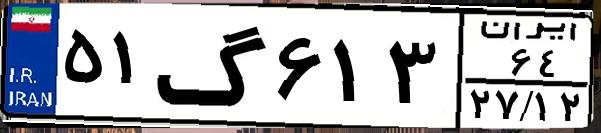1: (330, 28, 385, 110), (110, 28, 156, 98), (535, 70, 560, 125)
2: (560, 70, 590, 125), (470, 70, 495, 125)
3: (385, 28, 445, 110)
4: (537, 27, 568, 80)
5: (57, 26, 110, 100)
6: (270, 28, 330, 110), (508, 27, 537, 80)
7: (495, 70, 520, 125)
گ: (156, 12, 270, 120)
